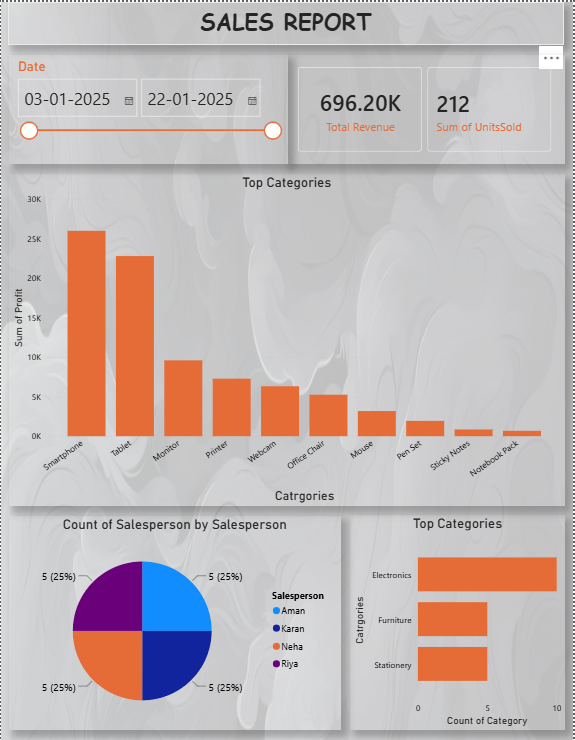

The page's visual inventory and layout, read from the dashboard file:
{"tool":"powerbi","page":{"name":"sales report","canvas":[816,1056],"ordinal":0},"visuals":[{"type":"textbox","box":[10.7,0,794.3,61],"z":0},{"type":"cardVisual","title":"Total reveue","fields":{"Data":["Sum(Sheet1 (2).Revenue)","Sum(Sheet1 (2).UnitsSold)"]},"box":[407.2,75.6,397.9,155.8],"z":1000},{"type":"slicer","fields":{"Values":["Sheet1 (2).OrderDate"]},"box":[10.8,75.6,397.9,155.8],"z":2000},{"type":"barChart","title":"Top Categories","fields":{"Category":["Sheet1 (2).Category"],"Y":["CountNonNull(Sheet1 (2).Category)"]},"box":[498.2,732.7,307.3,307.3],"z":3000},{"type":"pieChart","fields":{"Category":["Sheet1 (2).Salesperson"],"Y":["CountNonNull(Sheet1 (2).Salesperson)"]},"box":[10.9,734.5,473.6,306.4],"z":4000},{"type":"columnChart","title":"Top Categories","fields":{"Category":["Sheet1 (2).Product"],"Y":["Sum(Sheet1 (2).Profit)"]},"box":[10.9,246.4,793.6,474.5],"z":5000}]}

Visuals, with their boxes in screenshot pixels (x1, y1, x2, y2), scaled from the page's 816x1056 canvas onto the 575x740 screenshot:
textbox: (left=8, top=0, right=567, bottom=43)
"Total reveue" cardVisual: (left=287, top=53, right=567, bottom=162)
slicer - Sheet1 (2).OrderDate: (left=8, top=53, right=288, bottom=162)
"Top Categories" barChart: (left=351, top=513, right=568, bottom=729)
pieChart - Sheet1 (2).Salesperson x CountNonNull(Sheet1 (2).Salesperson): (left=8, top=515, right=341, bottom=729)
"Top Categories" columnChart: (left=8, top=173, right=567, bottom=505)
